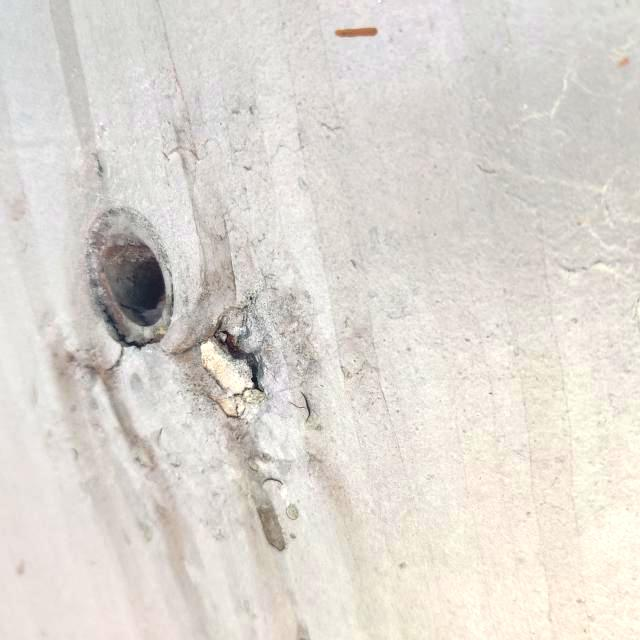crack: (162, 303, 284, 439)
